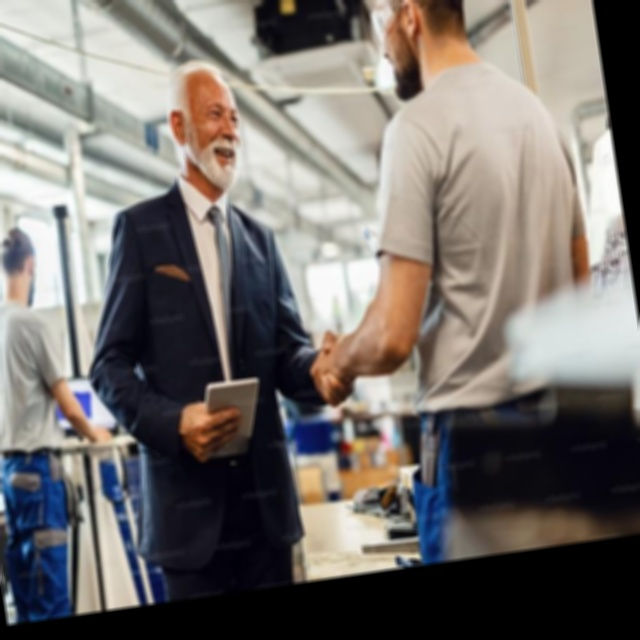Sin_Casco_Mascarrilla: (160, 52, 250, 195), (362, 0, 483, 98)
Sin_Chaleco: (107, 182, 317, 552)
